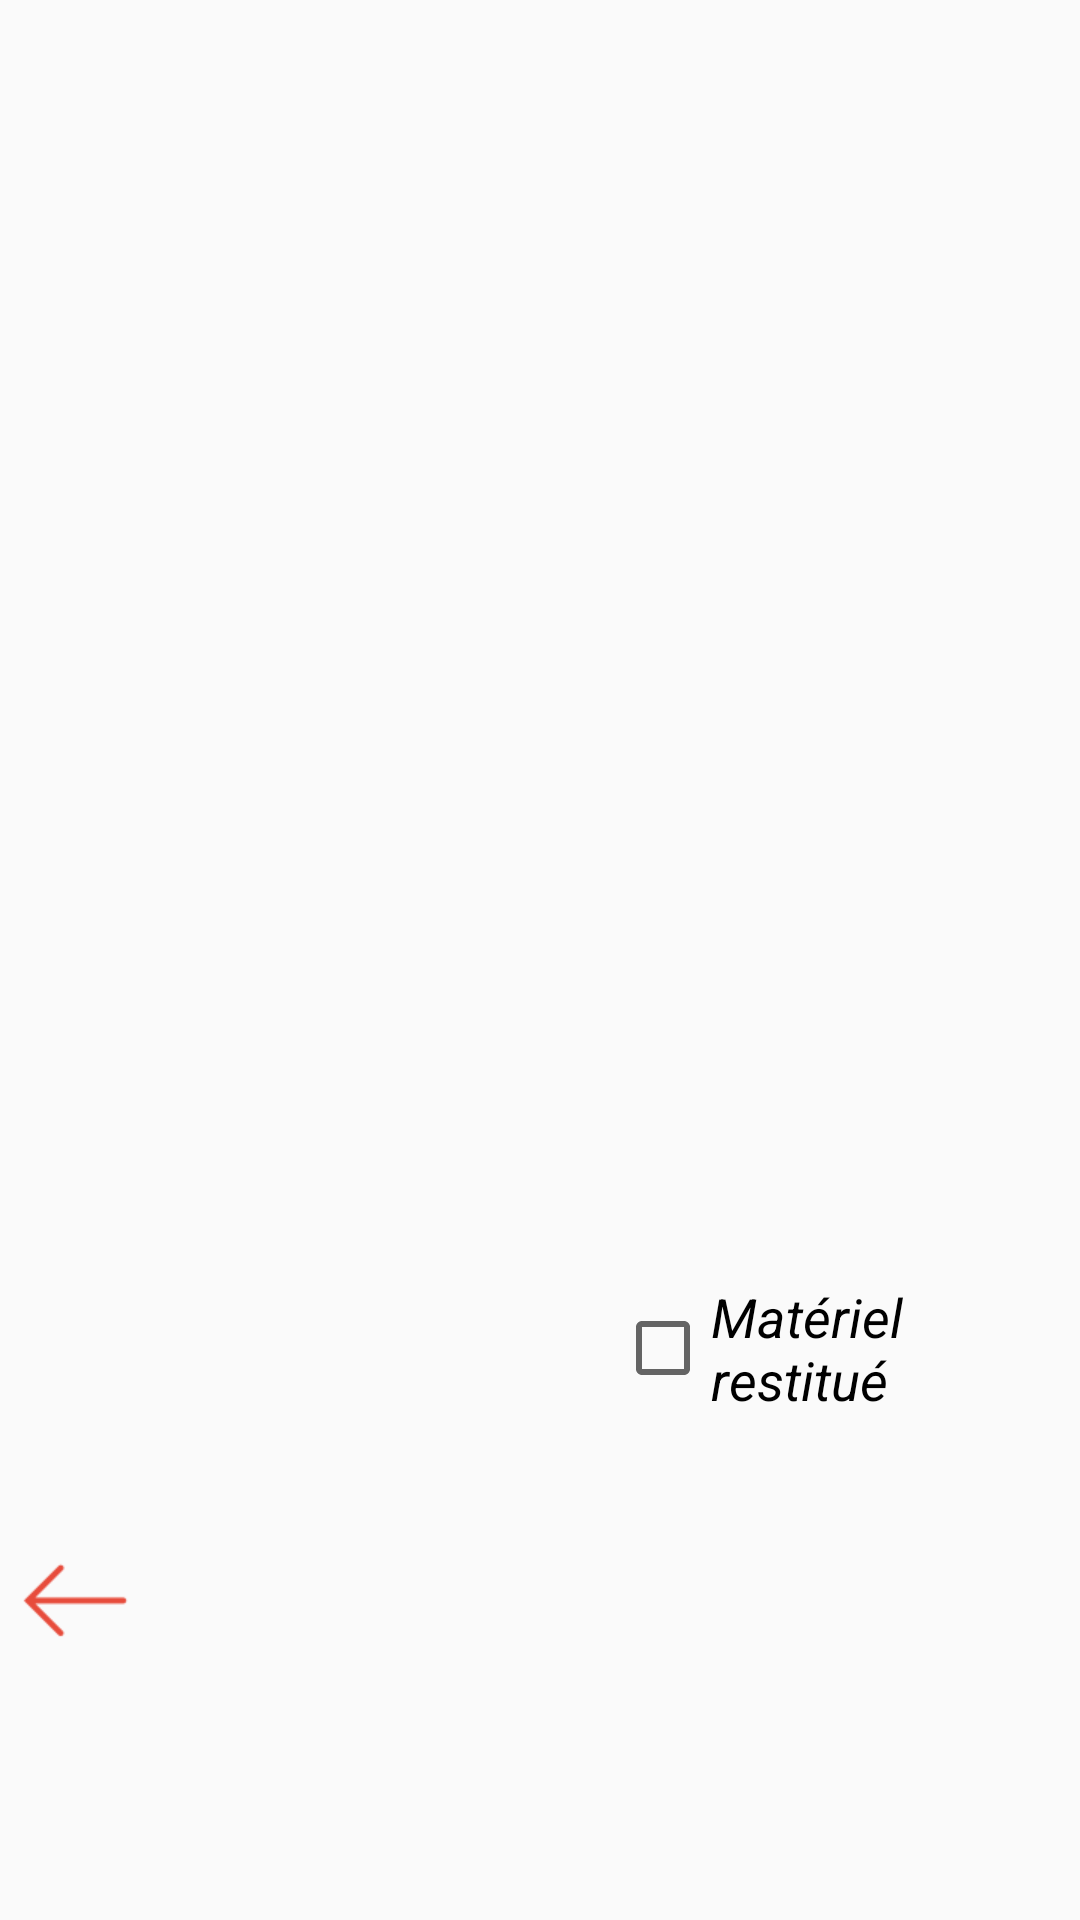

Point at icon controls on the screen. Image size 1080*1920, points as (x=x, y=y).
sortie: (x=75, y=1600)
